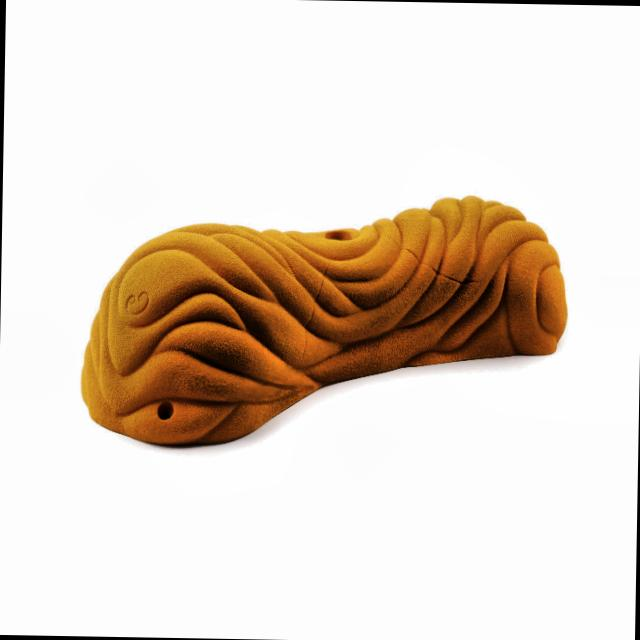Hold: (79, 185, 566, 454)
